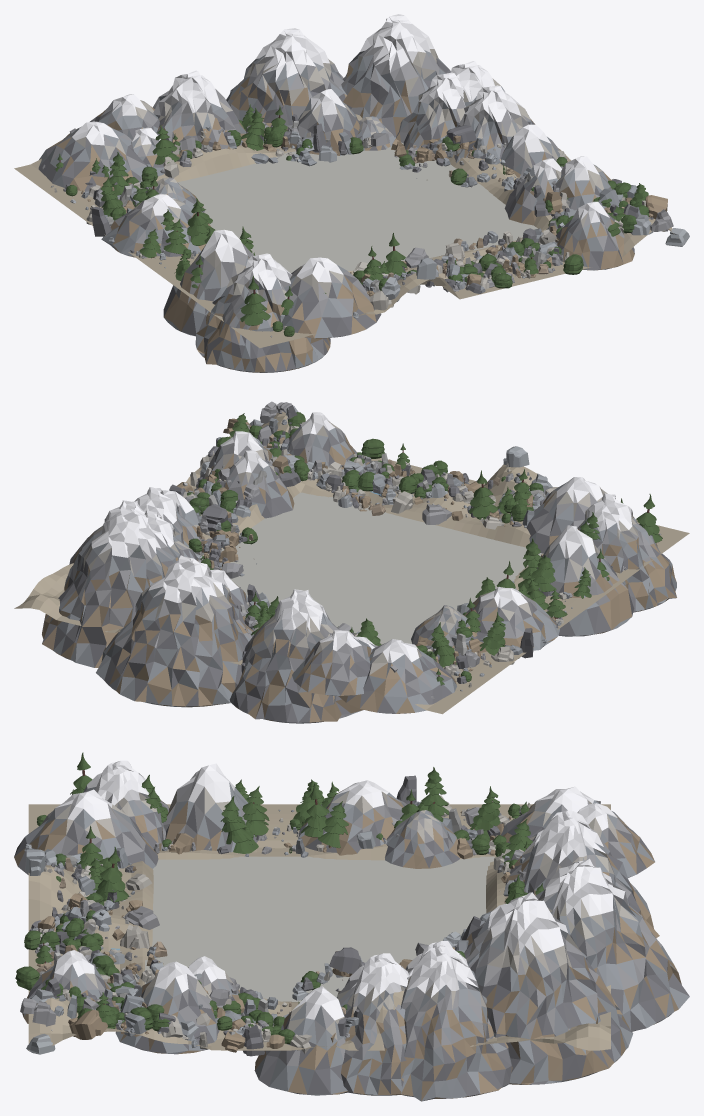
Rendered from spielfeld_berge_border.glb.
The picture shows the model from 3 angles, top to bottom: view 1: azimuth 30°, elevation 25°; view 2: azimuth 150°, elevation 25°; view 3: azimuth 270°, elevation 25°; orthographic projection. The views are drawn at different scales.
Parts seen in each view (by area): view 1: MountainGrid, MountainTerrain, Mt_SE, Mt_E1, Mt_N2, Mt_S3, Mt_N4, Mt_N1, Mt_E4, Ridge_S3, Mt_W1, Mt_N3 (+14 smaller); view 2: MountainGrid, Mt_N2, Mt_E1, MountainTerrain, Mt_N1, Mt_SE, Mt_E4, Mt_N4, Ridge_N1, Mt_W1, Mt_S3, Ridge_F2 (+14 smaller); view 3: MountainGrid, Mt_E1, MountainTerrain, Mt_NE, Mt_N2, Mt_E3, Ridge_E1, Mt_S3, Mt_N1, Mt_E4, Ridge_E2, Mt_W1 (+18 smaller).
Part boxes in pixels (box(x1,y1,x2,y2)): MountainGrid: box(178, 142, 537, 273); MountainTerrain: box(14, 114, 679, 348); Mt_SE: box(195, 253, 330, 372); Mt_E1: box(341, 14, 450, 138); Mt_N2: box(226, 28, 346, 142); Mt_S3: box(282, 257, 381, 338); Mt_N4: box(38, 121, 146, 191); Mt_N1: box(153, 70, 246, 152); Mt_E4: box(163, 229, 253, 336); Ridge_S3: box(556, 201, 634, 270); Mt_W1: box(101, 193, 210, 257); Mt_N3: box(396, 72, 465, 150); MountainGrid: box(220, 492, 542, 643); Mt_N2: box(96, 555, 253, 707); Mt_E1: box(42, 507, 175, 667); MountainTerrain: box(14, 411, 689, 714); Mt_N1: box(229, 589, 363, 723); Mt_SE: box(577, 493, 676, 612); Mt_E4: box(537, 525, 634, 636); Mt_N4: box(338, 639, 456, 713); Ridge_N1: box(292, 630, 372, 695); Mt_W1: box(464, 587, 559, 650); Mt_S3: box(526, 477, 637, 553); Ridge_F2: box(224, 450, 294, 518); MountainGrid: box(145, 856, 494, 1001); Mt_E1: box(466, 892, 633, 1084); MountainTerrain: box(28, 804, 610, 1050); Mt_NE: box(400, 946, 512, 1101); Mt_N2: box(535, 858, 689, 1031); Mt_E3: box(337, 953, 408, 1095); Ridge_E1: box(254, 986, 347, 1095); Mt_S3: box(14, 789, 158, 874); Mt_N1: box(504, 810, 659, 938); Mt_E4: box(163, 763, 257, 852); Ridge_E2: box(115, 961, 219, 1054); Mt_W1: box(298, 780, 406, 855).
Bounding box in the file's own units: 44.22 × 11.92 × 46.42.
